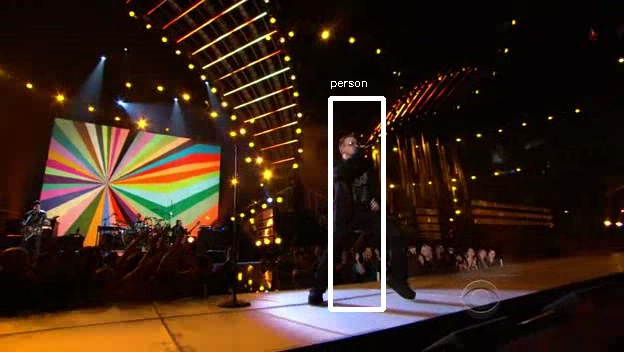person: (328, 134, 395, 255), (325, 134, 392, 255), (331, 134, 398, 255), (328, 131, 395, 252), (328, 137, 395, 258)
target_negative: (25, 287, 391, 343), (36, 192, 157, 285), (429, 195, 549, 253), (233, 214, 511, 234), (178, 70, 198, 279), (443, 268, 461, 272)
